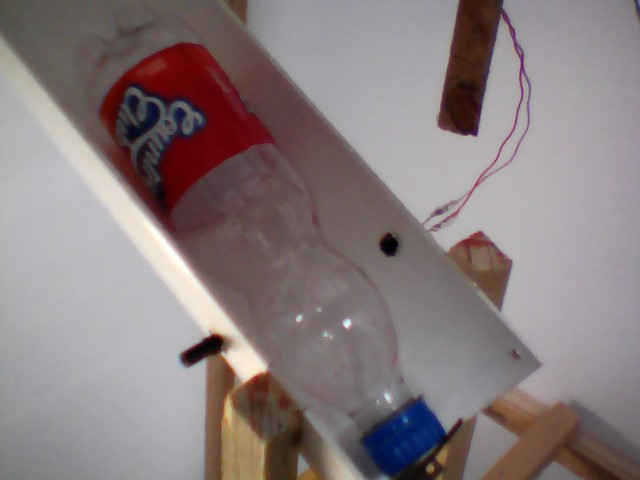plastico: (49, 2, 450, 472)
